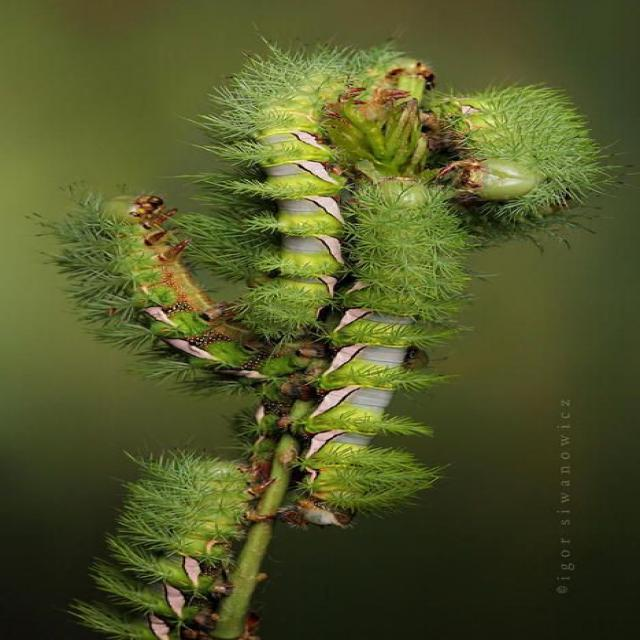caterpillar: (190, 21, 494, 358), (277, 122, 458, 568), (42, 148, 302, 420), (74, 445, 297, 640)
